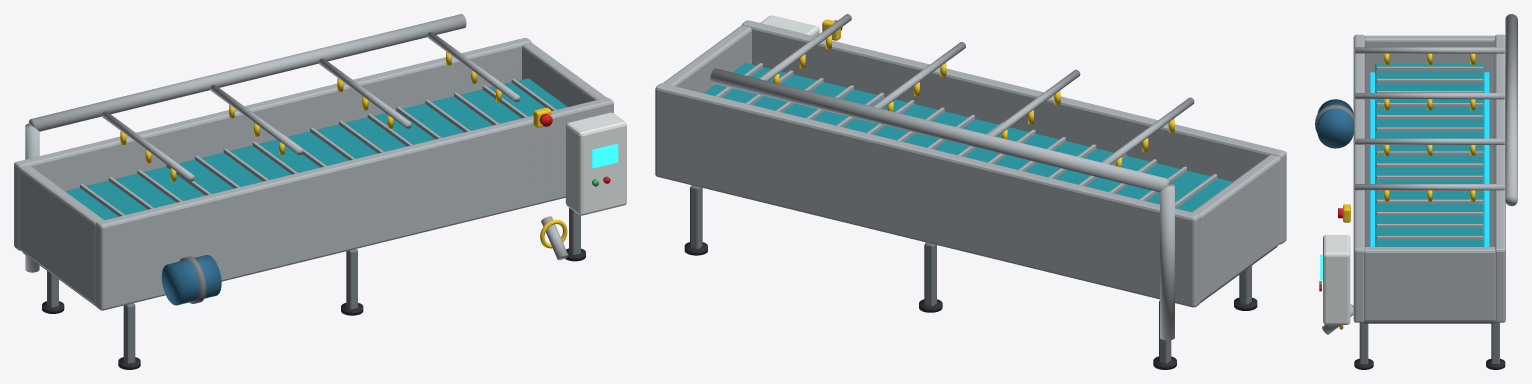
Rendered from bubble-washer.glb.
The picture shows the model from 3 angles, left to right: view 1: azimuth 30°, elevation 25°; view 2: azimuth 150°, elevation 25°; view 3: azimuth 270°, elevation 25°; orthographic projection. The views are drawn at different scales.
Parts seen in each view (by area): view 1: tank_wall, tank_wall.001, mesh_belt, tank_end, header_pipe, cabinet, tank_end.001, motor_body, spray_arch, spray_arch.001, spray_arch.003, spray_arch.002 (+6 smaller); view 2: tank_wall.001, tank_wall, mesh_belt, tank_end, header_pipe, tank_end.001, feed_pipe, spray_arch, spray_arch.001, spray_arch.003, spray_arch.002, leg_4 (+2 smaller); view 3: mesh_belt, tank_end.001, tank_end, tank_wall, tank_wall.001, cabinet, header_pipe, tank_floor, water_surface, motor_body, spray_arch, spray_arch.001 (+19 smaller).
Boxes of the visible parts, bbox=[...] form: tank_wall: bbox=[95, 97, 613, 310]; tank_wall.001: bbox=[14, 38, 531, 250]; mesh_belt: bbox=[65, 78, 567, 219]; tank_end: bbox=[19, 165, 103, 305]; header_pipe: bbox=[28, 14, 466, 131]; cabinet: bbox=[565, 112, 626, 215]; tank_end.001: bbox=[522, 43, 606, 106]; motor_body: bbox=[161, 255, 221, 305]; spray_arch: bbox=[101, 111, 194, 181]; spray_arch.001: bbox=[210, 84, 303, 155]; spray_arch.003: bbox=[427, 32, 520, 102]; spray_arch.002: bbox=[318, 58, 411, 128]; tank_wall.001: bbox=[655, 83, 1200, 307]; tank_wall: bbox=[741, 20, 1286, 244]; mesh_belt: bbox=[704, 62, 1232, 212]; tank_end: bbox=[1192, 154, 1280, 301]; header_pipe: bbox=[710, 68, 1171, 192]; tank_end.001: bbox=[663, 25, 751, 92]; feed_pipe: bbox=[1160, 183, 1174, 340]; spray_arch: bbox=[1101, 97, 1194, 164]; spray_arch.001: bbox=[987, 69, 1080, 136]; spray_arch.003: bbox=[758, 14, 851, 80]; spray_arch.002: bbox=[873, 42, 965, 108]; leg_4: bbox=[924, 242, 936, 305]; mesh_belt: bbox=[1375, 64, 1484, 246]; tank_end.001: bbox=[1364, 247, 1495, 321]; tank_end: bbox=[1364, 35, 1494, 104]; tank_wall: bbox=[1353, 34, 1364, 322]; tank_wall.001: bbox=[1494, 34, 1505, 322]; cabinet: bbox=[1323, 235, 1350, 324]; header_pipe: bbox=[1505, 14, 1517, 206]; tank_floor: bbox=[1363, 104, 1495, 323]; water_surface: bbox=[1370, 72, 1489, 246]; motor_body: bbox=[1317, 99, 1353, 148]; spray_arch: bbox=[1355, 47, 1504, 53]; spray_arch.001: bbox=[1355, 93, 1504, 99].
Bounding box in the file's own units: 4.5 × 1.55 × 1.79.
